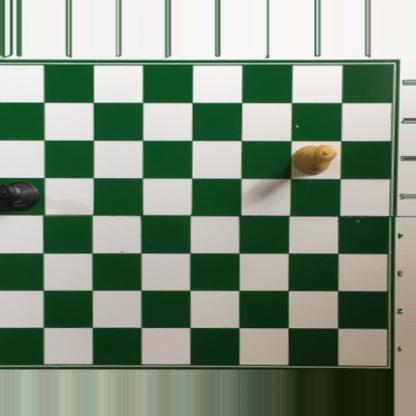black-queen: (0, 182, 41, 211)
white-queen: (293, 144, 337, 176)
